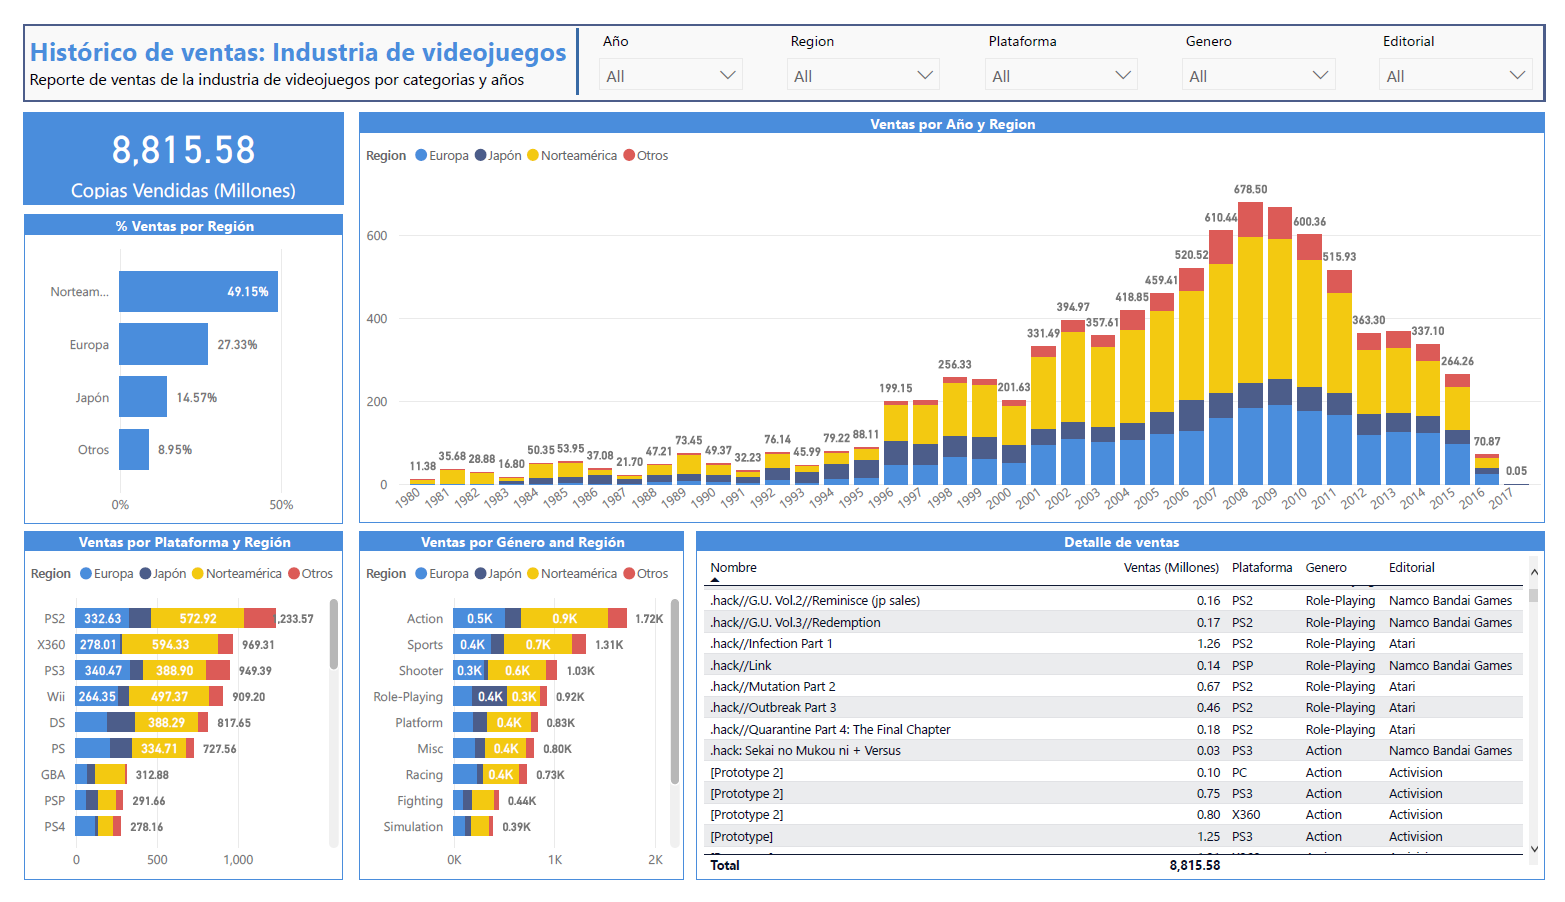

The page's visual inventory and layout, read from the dashboard file:
{"tool":"powerbi","page":{"name":"Histórico","canvas":[1280,720],"ordinal":0},"visuals":[{"type":"shape","box":[0,0,1280,65.2],"z":0},{"type":"group","id":"g1","title":"Group 2","box":[474.8,0,805.2,65.4],"z":0,"group":"g2"},{"type":"slicer","fields":{"Values":["Ventas Videojuegos.Año"]},"box":[474.8,0,140.9,63.5],"z":0,"group":"g1"},{"type":"slicer","fields":{"Values":["Ventas Videojuegos.Region"]},"box":[632.8,0,148.9,64.6],"z":1000,"group":"g1"},{"type":"columnChart","fields":{"Category":["Ventas Videojuegos.Año"],"Y":["Sum(Ventas Videojuegos.Ventas (Millones))"],"Series":["Ventas Videojuegos.Region"]},"box":[282.1,73.9,997.9,346.3],"z":1000},{"type":"slicer","fields":{"Values":["Ventas Videojuegos.Plataforma"]},"box":[798.9,0,148.9,64.6],"z":2000,"group":"g1"},{"type":"clusteredBarChart","title":"% Ventas por Región","fields":{"Y":["Sum(Ventas Videojuegos.Ventas (Millones))"],"Category":["Ventas Videojuegos.Region"]},"box":[0,159.5,269.4,260.7],"z":2000},{"type":"slicer","fields":{"Values":["Ventas Videojuegos.Editorial"]},"box":[1131.1,0,148.9,63.7],"z":3000,"group":"g1"},{"type":"tableEx","title":"Detalle de ventas","fields":{"Values":["Ventas Videojuegos.Nombre","Sum(Ventas Videojuegos.Ventas (Millones))","Ventas Videojuegos.Plataforma","Ventas Videojuegos.Genero","Ventas Videojuegos.Editorial"]},"box":[566.1,426,713.9,293.7],"z":3000},{"type":"slicer","fields":{"Values":["Ventas Videojuegos.Genero"]},"box":[965,0,148.9,65.4],"z":4000,"group":"g1"},{"type":"barChart","title":"Ventas por Plataforma y Región","fields":{"Y":["Sum(Ventas Videojuegos.Ventas (Millones))"],"Category":["Ventas Videojuegos.Plataforma"],"Series":["Ventas Videojuegos.Region"]},"box":[0,426,269.4,293.7],"z":4000},{"type":"barChart","title":"Ventas (Millones) por Género and Región","fields":{"Y":["Sum(Ventas Videojuegos.Ventas (Millones))"],"Category":["Ventas Videojuegos.Genero"],"Series":["Ventas Videojuegos.Region"]},"box":[282.1,426,274.3,293.7],"z":5000},{"type":"card","fields":{"Values":["Sum(Ventas Videojuegos.Ventas (Millones))"]},"box":[0,73.9,269.4,77.8],"z":6000},{"type":"textbox","box":[0,2.3,474.8,60.9],"z":7000},{"type":"group","id":"g2","title":"Group 1","box":[474.8,0,805.2,65.4],"z":8000},{"type":"shape","box":[457.9,3.4,16.9,55.3],"z":9000}]}

Visuals, with their boxes in screenshot pixels (x1, y1, x2, y2), scaled from the page's 1280x720 canvas onto the 1565x902 screenshot:
shape: left=0, top=0, right=1564, bottom=82
"Group 2" group: left=581, top=0, right=1564, bottom=82
slicer - Ventas Videojuegos.Año: left=581, top=0, right=753, bottom=80
slicer - Ventas Videojuegos.Region: left=774, top=0, right=956, bottom=81
columnChart - Ventas Videojuegos.Año x Sum(Ventas Videojuegos.Ventas (Millones)): left=345, top=93, right=1564, bottom=526
slicer - Ventas Videojuegos.Plataforma: left=977, top=0, right=1159, bottom=81
"% Ventas por Región" clusteredBarChart: left=0, top=200, right=329, bottom=526
slicer - Ventas Videojuegos.Editorial: left=1383, top=0, right=1564, bottom=80
"Detalle de ventas" tableEx: left=692, top=534, right=1564, bottom=901
slicer - Ventas Videojuegos.Genero: left=1180, top=0, right=1362, bottom=82
"Ventas por Plataforma y Región" barChart: left=0, top=534, right=329, bottom=901
"Ventas (Millones) por Género and Región" barChart: left=345, top=534, right=680, bottom=901
card - Sum(Ventas Videojuegos.Ventas (Millones)): left=0, top=93, right=329, bottom=190
textbox: left=0, top=3, right=581, bottom=79
"Group 1" group: left=581, top=0, right=1564, bottom=82
shape: left=560, top=4, right=581, bottom=74
